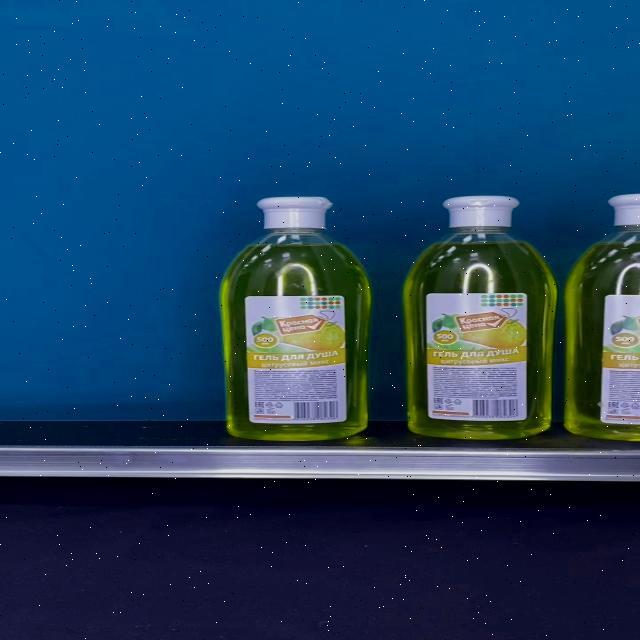Bottle: (402, 195, 558, 438), (221, 196, 371, 440)
Cap: (441, 195, 522, 228), (256, 196, 334, 230)
